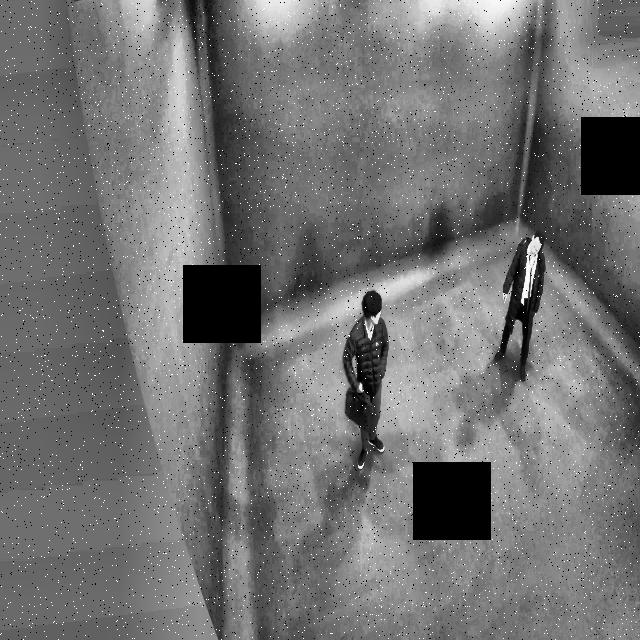assult: (337, 224, 553, 473)
